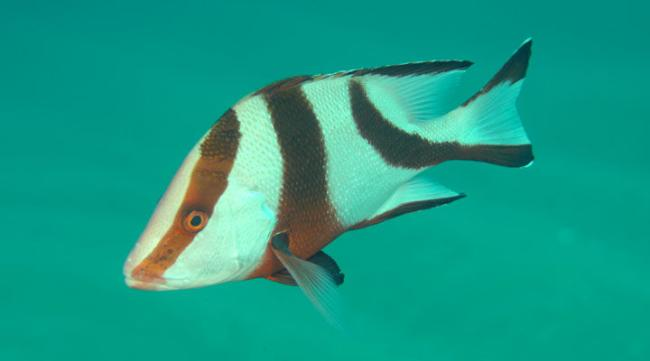fish: (122, 35, 536, 333)
